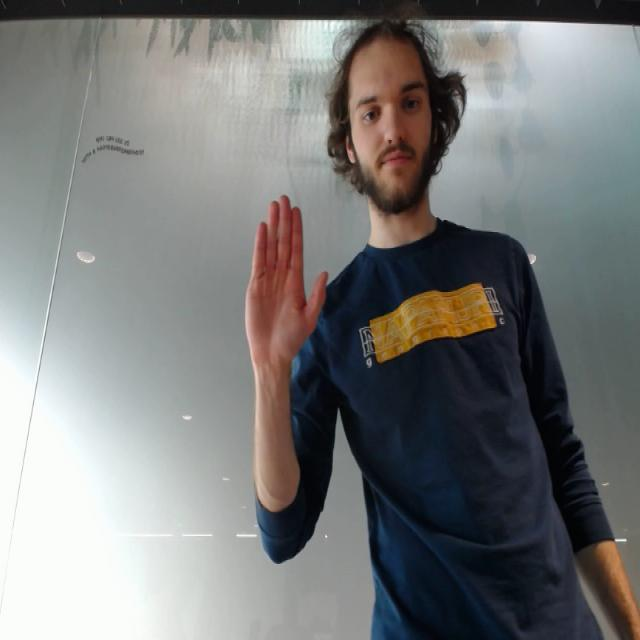backward: (242, 198, 336, 370)
